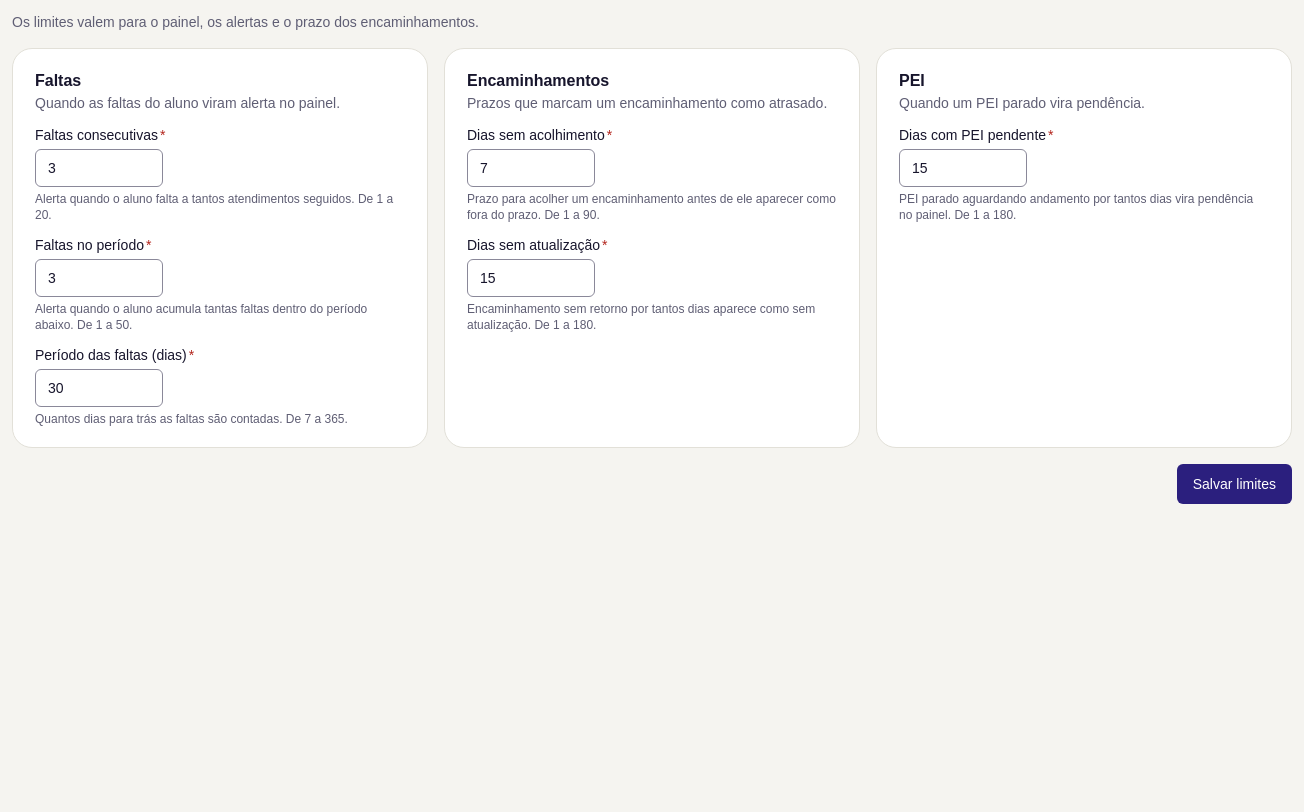
it: AlertasTab › Salvar_envia_a_versao_lida_e_avisa
Replace the text in the number field labelled "Dias sem atualização*" with "21" at (531, 278), box [467, 259, 595, 297]
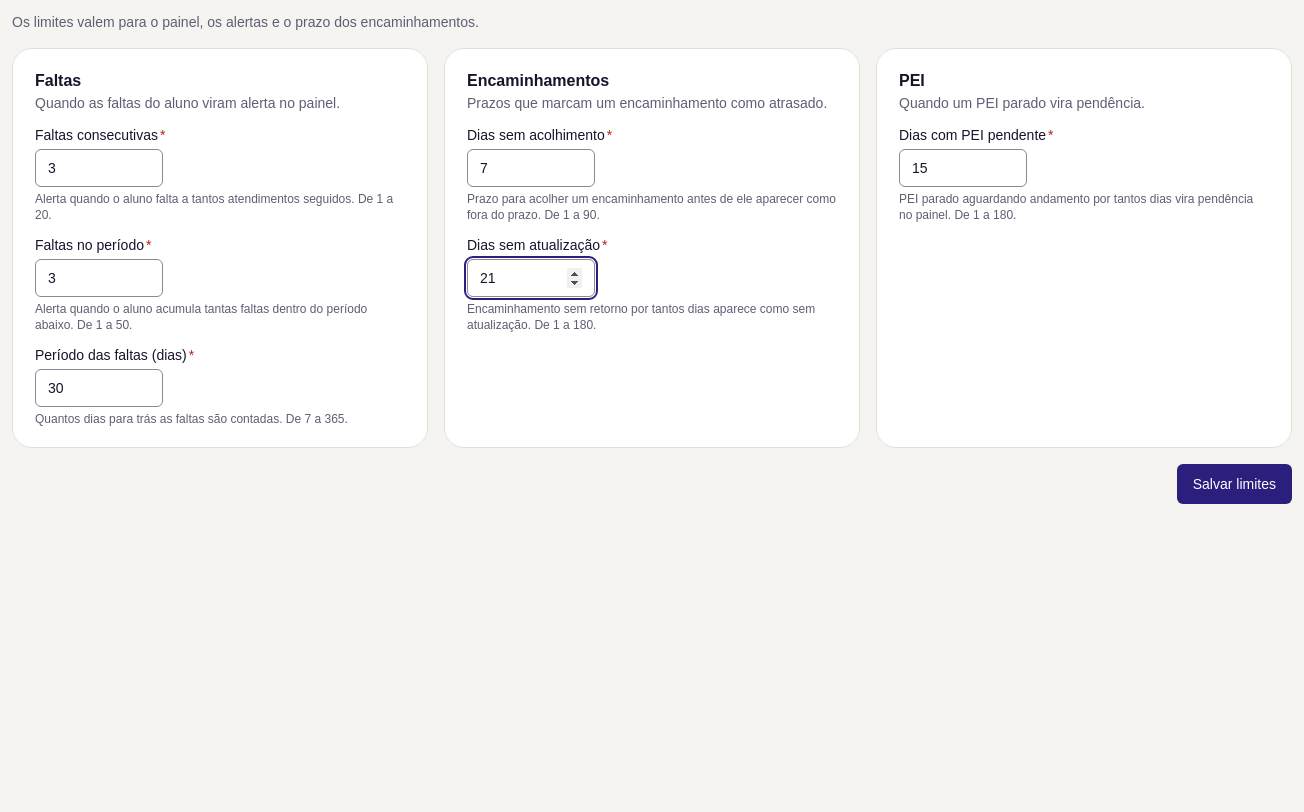
Click the button "Salvar limites" at (1234, 484), box [1177, 464, 1292, 504]
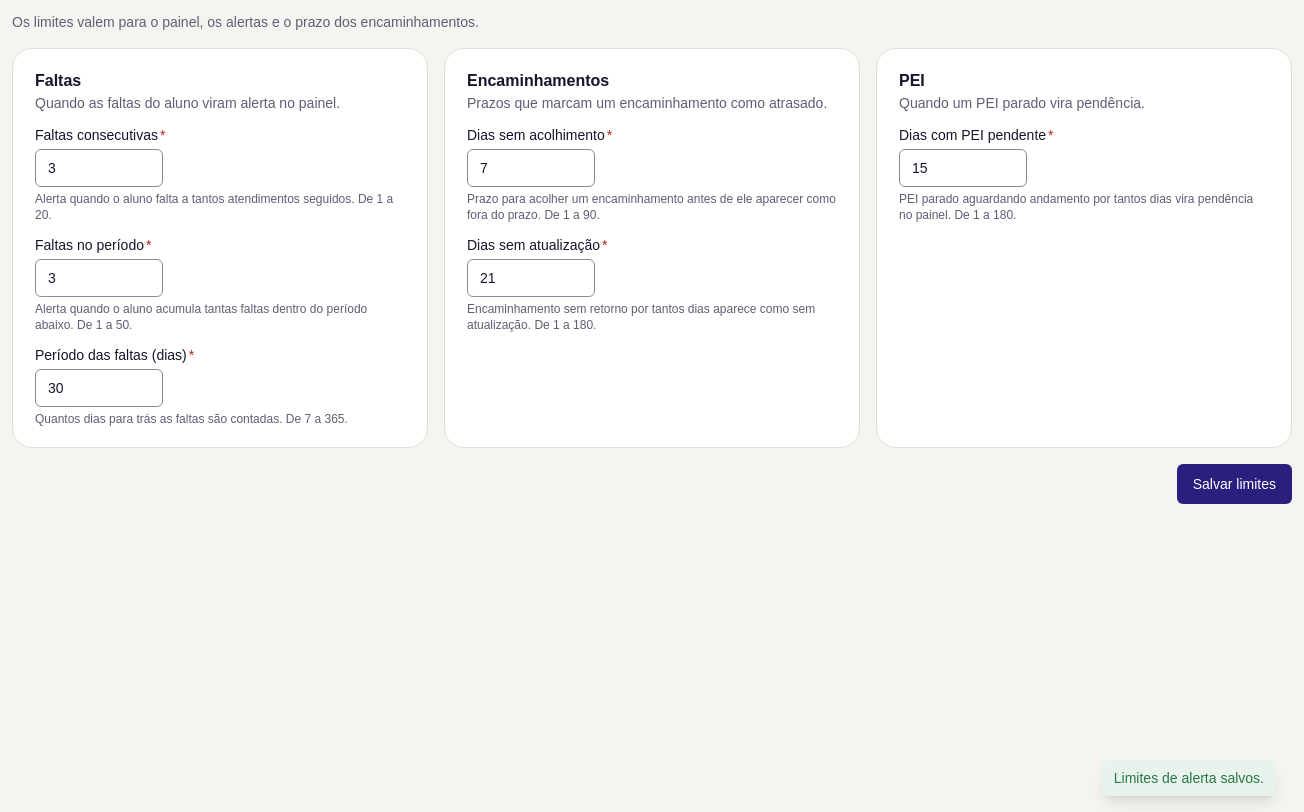
Result: the text "Limites de alerta salvos." is shown at [1102, 760, 1276, 796]
